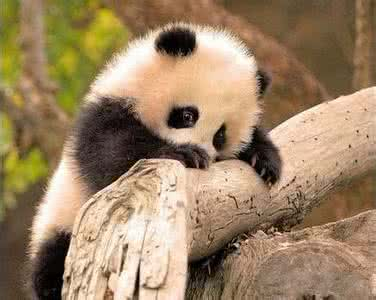panda: (33, 18, 284, 298)
